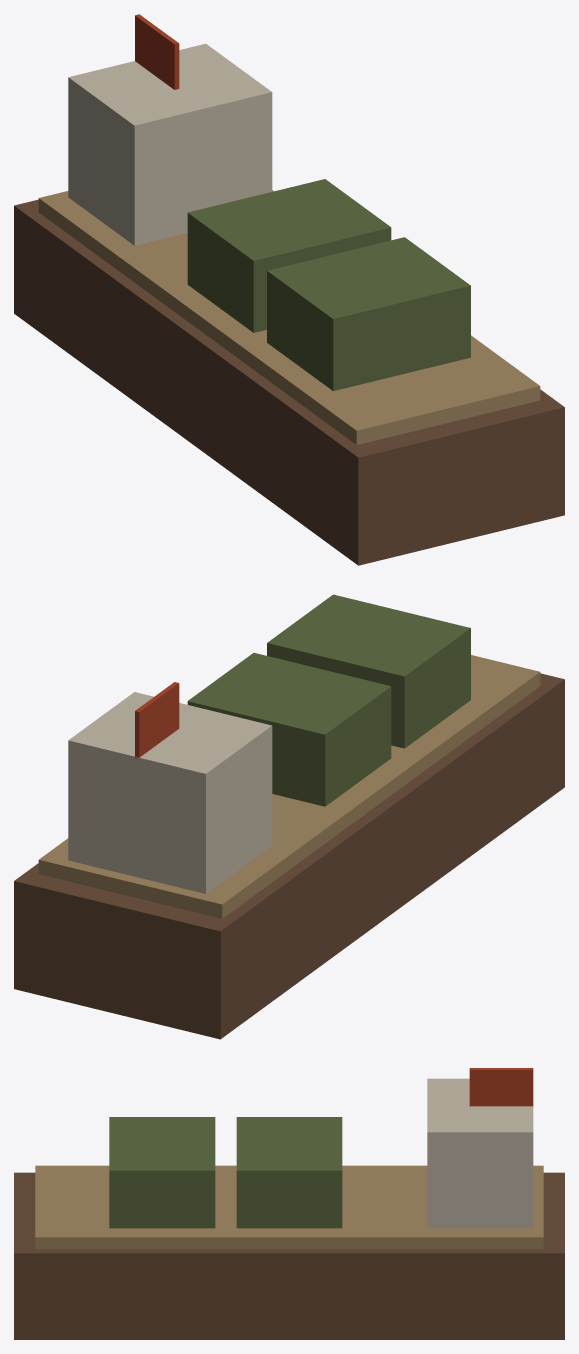
The model's file is transport.glb.
3 renders of one model, top to bottom at view 1: azimuth 30°, elevation 25°; view 2: azimuth 150°, elevation 25°; view 3: azimuth 270°, elevation 25°, orthographic. The views are drawn at different scales.
Parts seen in each view (by area): view 1: hull, cabin, deck, cargo1, cargo2, flag; view 2: hull, cabin, deck, cargo2, cargo1, flag; view 3: hull, deck, cabin, cargo1, cargo2, flag.
Part boxes in pixels (left/top/right/bottom): hull: left=14, top=199, right=564, bottom=565; cabin: left=68, top=43, right=272, bottom=245; deck: left=38, top=190, right=540, bottom=444; cargo1: left=267, top=237, right=470, bottom=391; cargo2: left=187, top=179, right=391, bottom=332; flag: left=135, top=14, right=179, bottom=89; hull: left=14, top=673, right=564, bottom=1039; cabin: left=68, top=692, right=272, bottom=893; deck: left=38, top=655, right=540, bottom=918; cargo2: left=187, top=653, right=391, bottom=806; cargo1: left=267, top=594, right=470, bottom=748; flag: left=135, top=682, right=179, bottom=759; hull: left=14, top=1172, right=564, bottom=1339; deck: left=35, top=1165, right=543, bottom=1248; cabin: left=427, top=1078, right=533, bottom=1228; cargo1: left=109, top=1117, right=215, bottom=1228; cargo2: left=236, top=1117, right=342, bottom=1228; flag: left=469, top=1068, right=533, bottom=1106.
Size of the model in its own units: 0.09 by 0.12 by 0.26.
